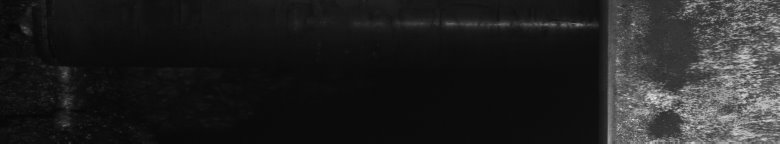kb: (616, 4, 776, 136)
